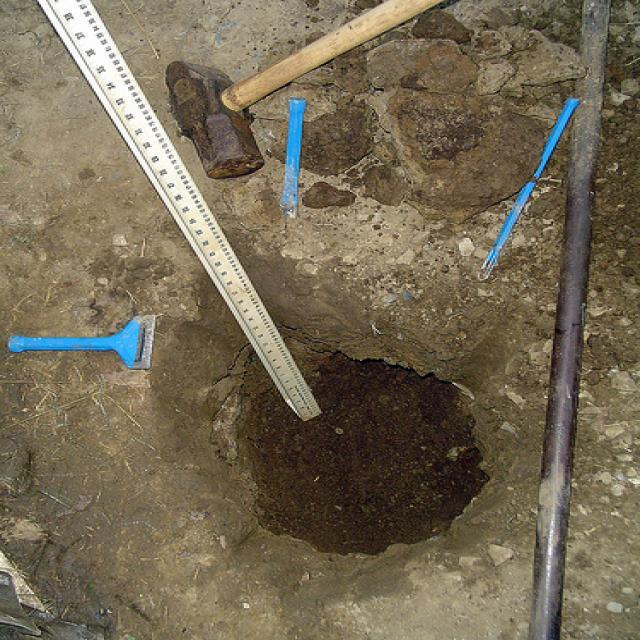hammer: (155, 0, 470, 193)
